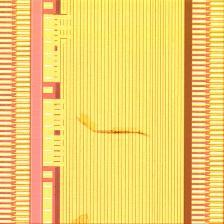PARTICLE: (76, 111, 156, 143)
